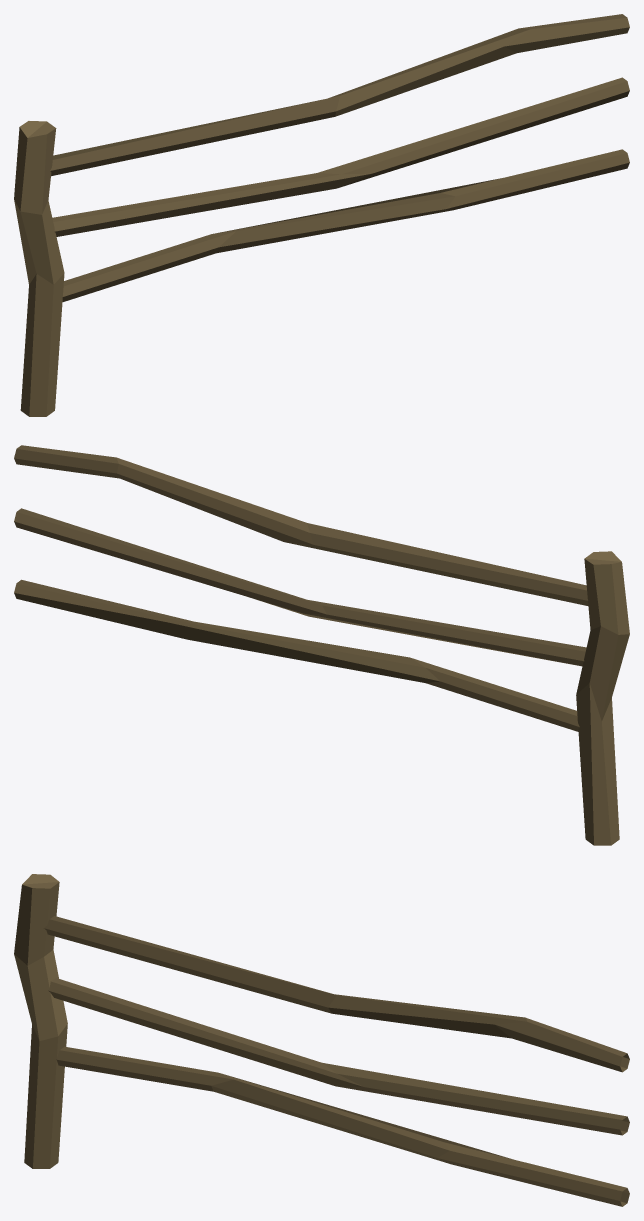
The model's file is Fence_3.fbx.
The picture shows the model from 3 angles, top to bottom: view 1: azimuth 30°, elevation 25°; view 2: azimuth 150°, elevation 25°; view 3: azimuth 330°, elevation 25°; orthographic projection.
Parts seen in each view (by area): view 1: Fence_3; view 2: Fence_3; view 3: Fence_3.
Boxes of the visible parts, bbox=[...] form: Fence_3: bbox=[14, 14, 629, 416]; Fence_3: bbox=[14, 445, 629, 845]; Fence_3: bbox=[14, 874, 629, 1206].
Bounding box in the file's own units: 234 × 104 × 12.21.
